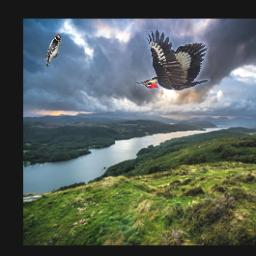Woodpecker: (137, 30, 212, 91), (44, 34, 62, 67)
